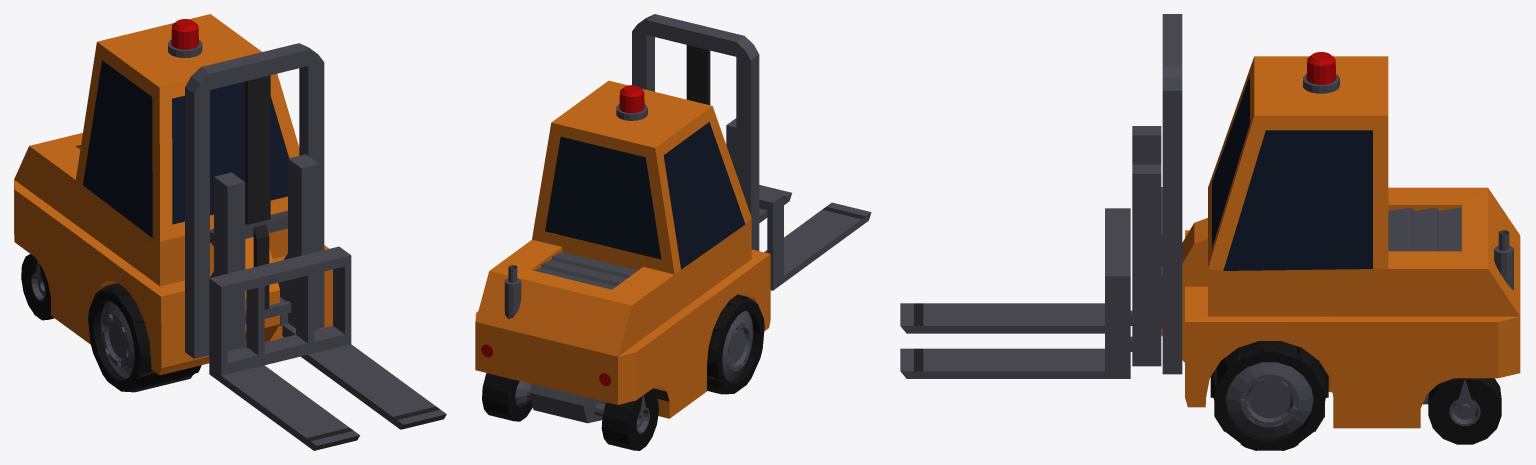
File: forklift.fbx
The picture shows the model from 3 angles, left to right: view 1: azimuth 30°, elevation 25°; view 2: azimuth 150°, elevation 25°; view 3: azimuth 270°, elevation 25°; orthographic projection. The views are drawn at different scales.
Parts seen in each view (by area): view 1: polySurface680, polySurface685, polySurface681, polySurface682, polySurface684, polySurface686; view 2: polySurface680, polySurface685, polySurface681, polySurface682, polySurface684, polySurface683, polySurface686, polySurface687, polySurface688; view 3: polySurface680, polySurface681, polySurface685, polySurface683, polySurface686, polySurface687.
Part boxes in pixels (left/top/right/bottom): polySurface680: left=14, top=14, right=332, bottom=375; polySurface685: left=185, top=43, right=324, bottom=358; polySurface681: left=209, top=246, right=446, bottom=450; polySurface682: left=88, top=283, right=201, bottom=392; polySurface684: left=21, top=254, right=54, bottom=320; polySurface686: left=168, top=19, right=202, bottom=57; polySurface680: left=475, top=80, right=770, bottom=423; polySurface685: left=632, top=14, right=759, bottom=250; polySurface681: left=759, top=185, right=871, bottom=290; polySurface682: left=707, top=294, right=764, bottom=394; polySurface684: left=601, top=390, right=658, bottom=450; polySurface683: left=482, top=373, right=532, bottom=421; polySurface686: left=616, top=85, right=647, bottom=120; polySurface687: left=504, top=265, right=521, bottom=318; polySurface688: left=515, top=381, right=605, bottom=416; polySurface680: left=1161, top=56, right=1520, bottom=450; polySurface681: left=900, top=208, right=1132, bottom=378; polySurface685: left=1132, top=14, right=1182, bottom=374; polySurface683: left=1428, top=378, right=1501, bottom=444; polySurface686: left=1303, top=52, right=1339, bottom=93; polySurface687: left=1494, top=230, right=1513, bottom=289.
Size of the model in its own units: 244 by 419 by 645.
